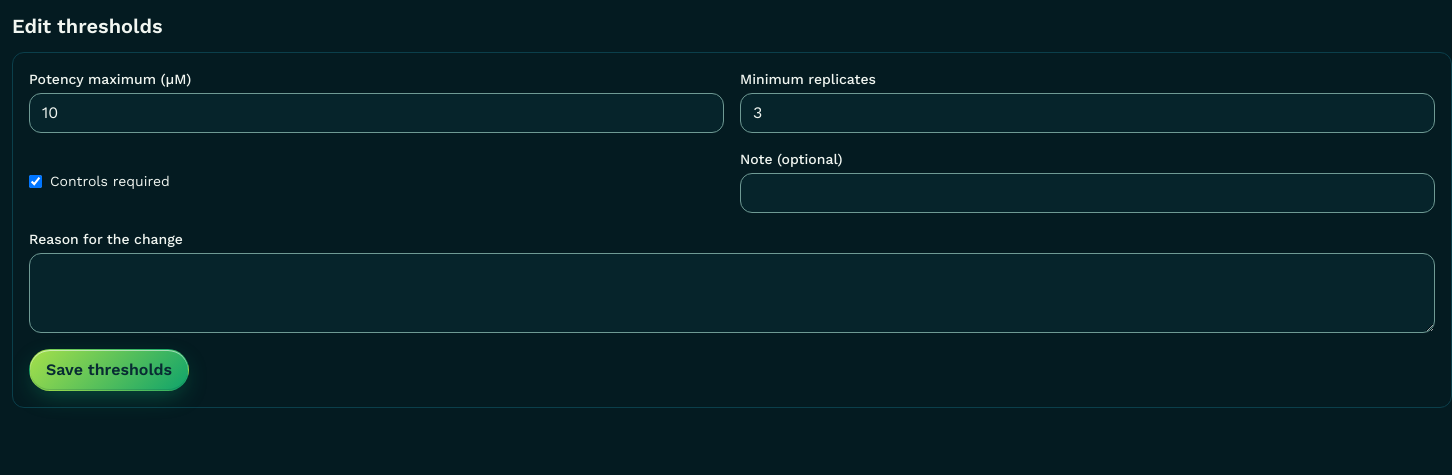
Scenario: ThresholdForm › ignores a double click while a request is in flight
Type "double click test" into the text box labelled "Reason for the change".
click(732, 293); type("double click test")  # box top-left (29, 253), bottom-right (1435, 333)
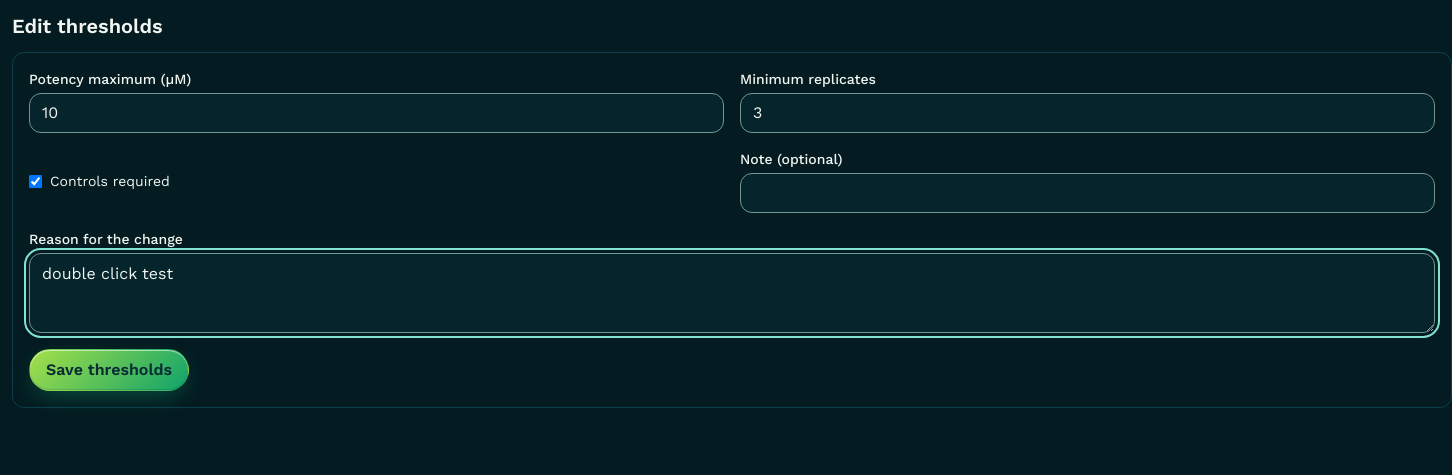
Double-click the button "Save thresholds".
double_click(109, 370)  # box top-left (29, 349), bottom-right (189, 391)
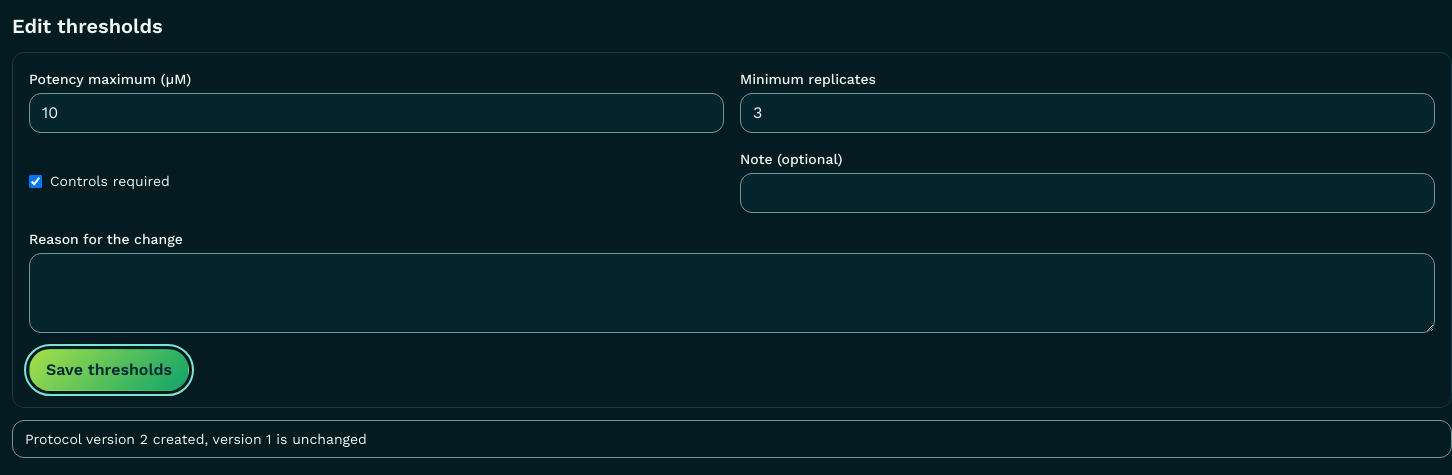
Result: the text "Protocol version 2 created, version 1 is unchanged" is shown at top-left (12, 420), bottom-right (1451, 458)
